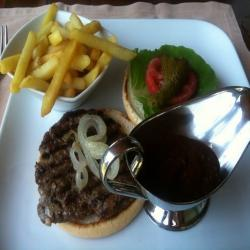burger: (31, 113, 162, 238)
fries: (1, 12, 118, 105)
salad: (127, 45, 225, 102)
